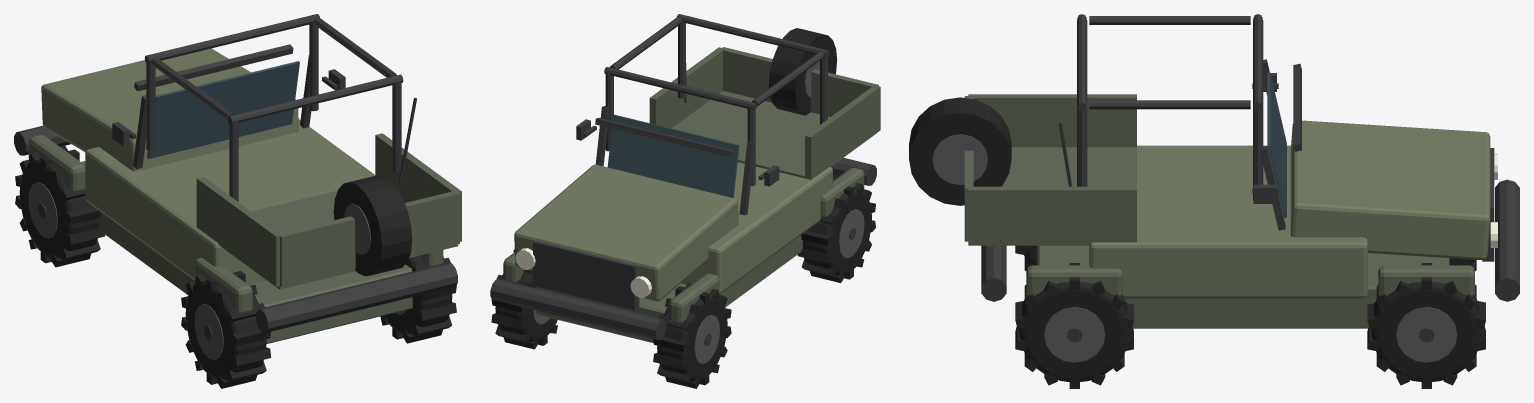
File: vehicle.glb
3 renders of one model, left to right at view 1: azimuth 30°, elevation 25°; view 2: azimuth 150°, elevation 25°; view 3: azimuth 270°, elevation 25°, orthographic. The views are drawn at different scales.
Visible parts, largest first — view 1: Body, Wheel_RL, Wheel_FL, Wheel_RR; view 2: Body, Wheel_FL, Wheel_RL, Wheel_FR; view 3: Body, Wheel_FR, Wheel_RR.
Boxes of the visible parts, x1,y1,x2,y2 form: Body: (14,14,461,343); Wheel_RL: (181,271,271,388); Wheel_FL: (15,145,105,267); Wheel_RR: (380,255,456,343); Body: (490,14,880,342); Wheel_FL: (653,282,731,388); Wheel_RL: (797,177,875,282); Wheel_FR: (491,249,557,349); Body: (909,14,1519,328); Wheel_FR: (1367,263,1485,388); Wheel_RR: (1015,263,1133,388).
Bounding box in the file's own units: 1.86 × 2.06 × 4.17.
